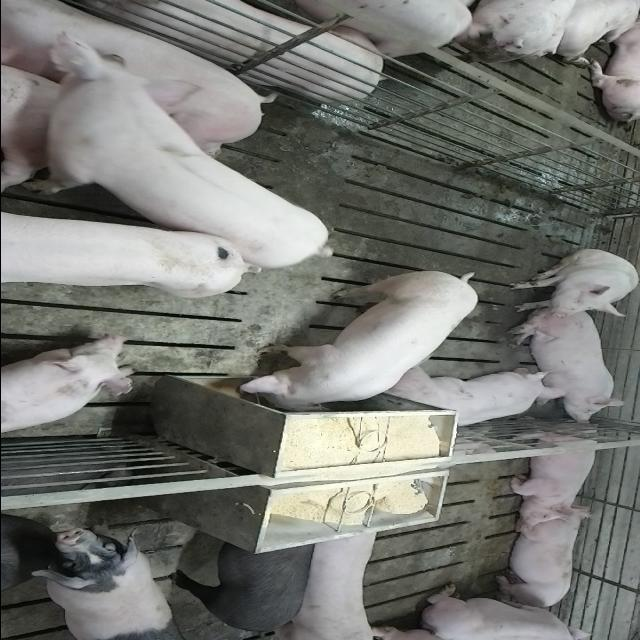Feeding: (232, 273, 479, 419)
Lateral_lying: (0, 0, 270, 157), (9, 0, 382, 102)
Sitting: (503, 249, 638, 319)
Standing: (7, 30, 344, 271), (0, 216, 255, 300), (32, 522, 176, 638), (172, 534, 322, 636), (268, 520, 384, 638)
Sternal_lying: (0, 333, 137, 438), (504, 313, 630, 423), (384, 368, 566, 431), (418, 584, 604, 638), (504, 423, 604, 522), (492, 510, 590, 610)
